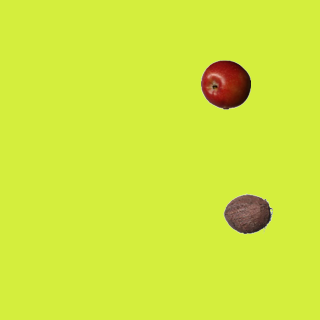Apple Braeburn: (200, 59, 250, 109)
Cocos: (222, 188, 272, 238)
